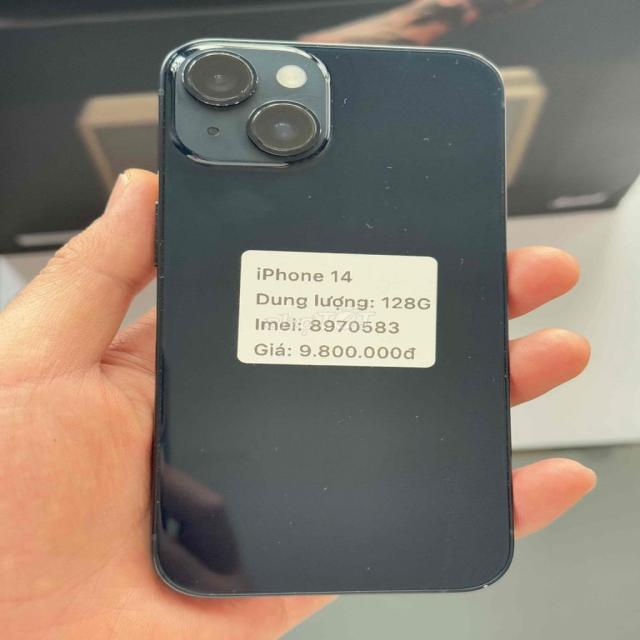scratch: (247, 98, 329, 190), (170, 44, 272, 108), (490, 83, 522, 123), (273, 534, 313, 566), (324, 481, 360, 515), (375, 158, 401, 202), (410, 406, 436, 444), (349, 223, 418, 237), (419, 131, 460, 154), (364, 569, 397, 595), (450, 252, 474, 286), (450, 56, 470, 78), (342, 90, 356, 116), (439, 432, 455, 454), (422, 168, 441, 185), (432, 76, 449, 94)
